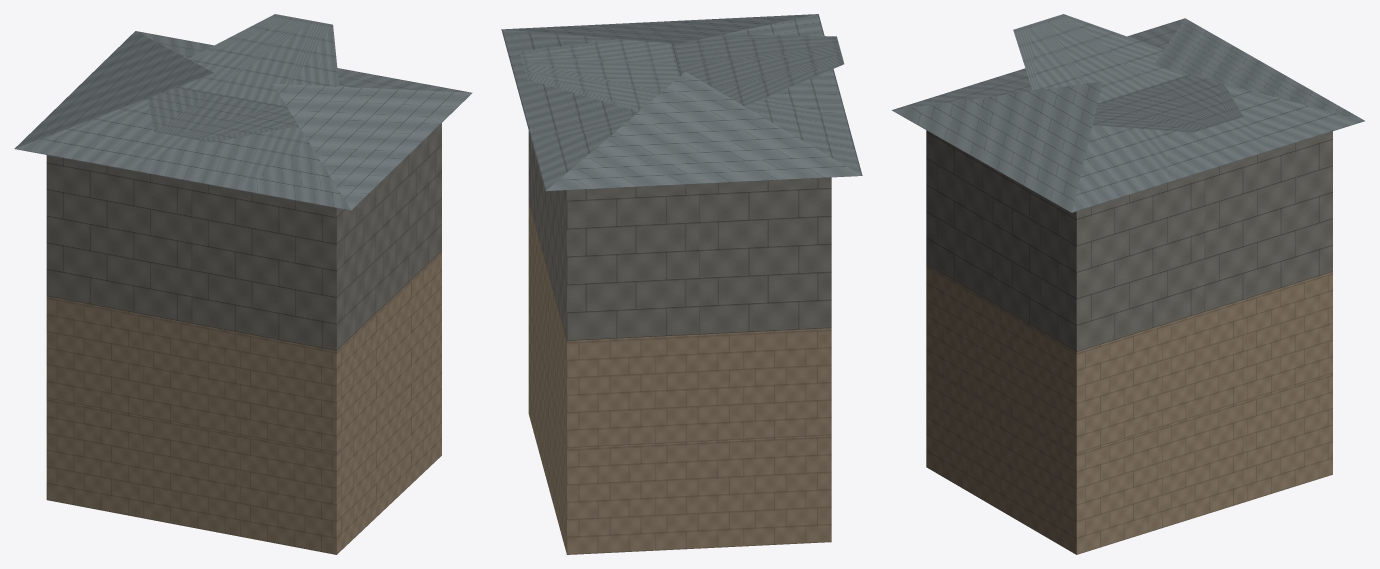
File: bld_c-22_13_541.gltf
The picture shows the model from 3 angles, left to right: view 1: azimuth 30°, elevation 25°; view 2: azimuth 150°, elevation 25°; view 3: azimuth 270°, elevation 25°; orthographic projection. The views are drawn at different scales.
Parts seen in each view (by area): view 1: bld_c-22_13_541; view 2: bld_c-22_13_541; view 3: bld_c-22_13_541.
Boxes of the visible parts, box(x1,y1,x2,y2) form: bld_c-22_13_541: box(14, 14, 472, 554); bld_c-22_13_541: box(501, 14, 862, 554); bld_c-22_13_541: box(892, 14, 1364, 554).
Bounding box in the file's own units: 9.87 × 9.4 × 10.15.
3 materials, 3 textured.
